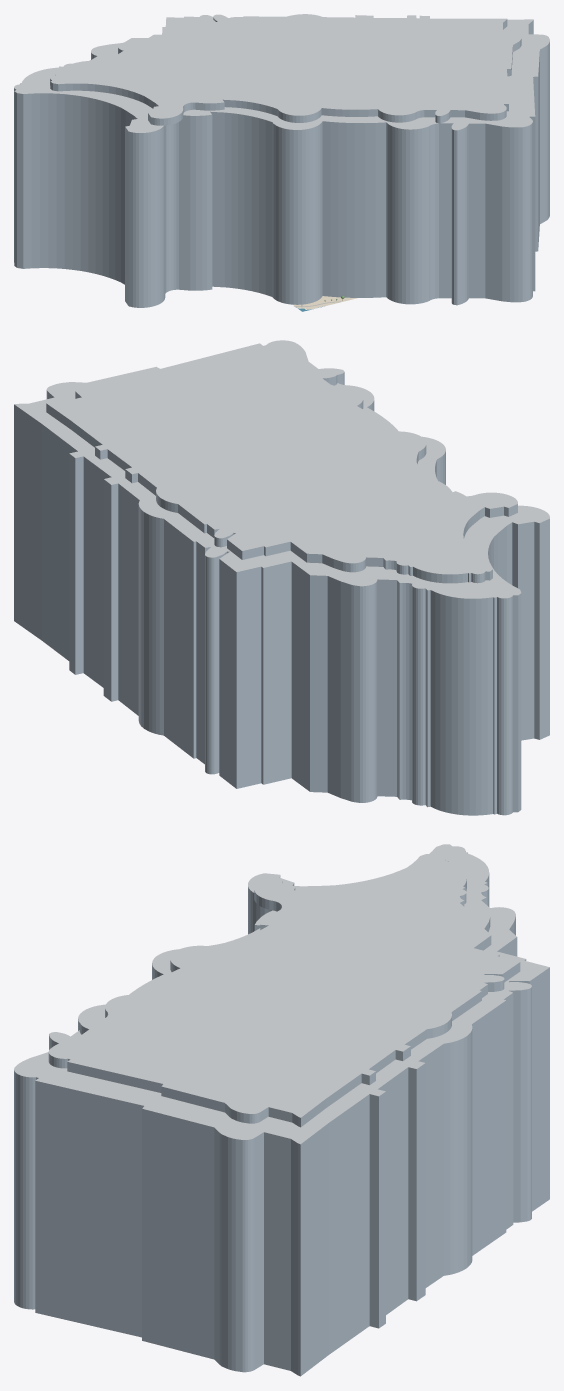
Rendered from tile_0_1.glb.
3 views of the same model, one above another, from view 1: azimuth 30°, elevation 25°; view 2: azimuth 150°, elevation 25°; view 3: azimuth 270°, elevation 25° (orthographic). The views are drawn at different scales.
Parts seen in each view (by area): view 1: buildings_landmark_glass, buildings_landmark_trim, nature_ground; view 2: buildings_landmark_glass, buildings_landmark_trim; view 3: buildings_landmark_glass, buildings_landmark_trim.
Part boxes in pixels (<box>): buildings_landmark_glass: <box>14,17,549,307</box>; buildings_landmark_trim: <box>14,14,549,132</box>; nature_ground: <box>293,296,357,309</box>; buildings_landmark_glass: <box>14,372,549,815</box>; buildings_landmark_trim: <box>14,340,549,598</box>; buildings_landmark_glass: <box>14,851,549,1376</box>; buildings_landmark_trim: <box>14,844,549,1144</box>.
Bounding box in the file's own units: 804 × 302 × 607.
